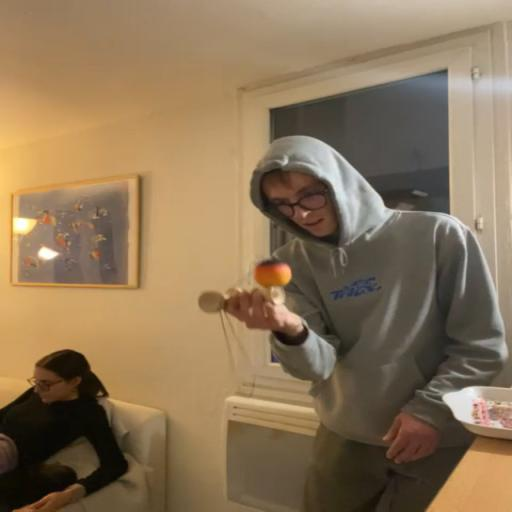kendama_ball: (253, 259, 292, 288)
